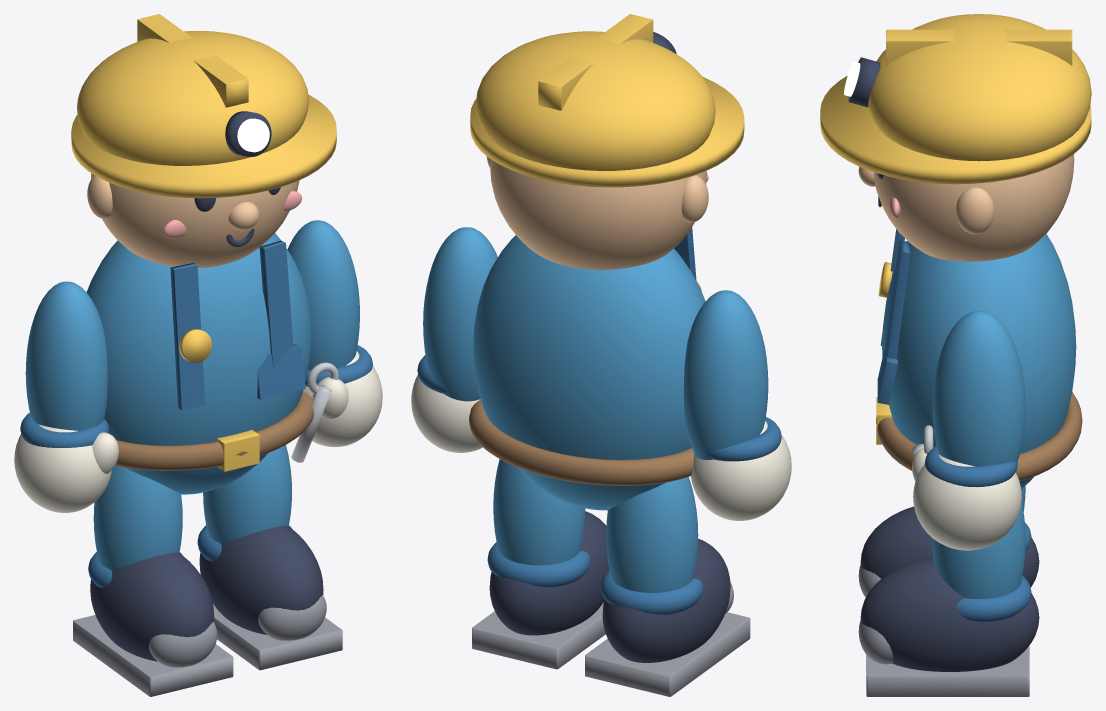
Rendered from pip.glb.
3 views of the same model, side by side, from view 1: azimuth 30°, elevation 25°; view 2: azimuth 150°, elevation 25°; view 3: azimuth 270°, elevation 25° (orthographic). The views are drawn at different scales.
Parts seen in each view (by area): view 1: Torso, Helmet, ArmL, HelmetBrim, Head, BootL, BootR, ArmR, LegL, LegR, GloveL, BootLSole (+20 smaller); view 2: Torso, Helmet, Head, ArmL, LegL, ArmR, BootL, HelmetBrim, LegR, BootR, TorsoBelt, GloveL (+8 smaller); view 3: Helmet, Torso, ArmR, BootR, Head, HelmetBrim, GloveR, BootRSole, LegR, BootL, TorsoBelt, HelmetRidge (+7 smaller).
Boxes of the visible parts, x1,y1,x2,y2 form: Torso: (86, 233, 311, 494); Helmet: (77, 31, 308, 165); ArmL: (25, 281, 107, 430); HelmetBrim: (71, 94, 336, 198); Head: (91, 173, 299, 267); BootL: (90, 552, 214, 661); BootR: (199, 526, 323, 634); ArmR: (287, 220, 359, 370); LegL: (93, 465, 182, 569); LegR: (203, 445, 291, 543); GloveL: (14, 424, 111, 512); BootLSole: (73, 615, 233, 696); Torso: (473, 235, 705, 510); Helmet: (476, 31, 715, 170); Head: (490, 159, 706, 269); ArmL: (683, 290, 768, 459); LegL: (606, 477, 698, 592); ArmR: (423, 227, 497, 401); BootL: (602, 538, 730, 662); HelmetBrim: (470, 77, 744, 187); LegR: (493, 459, 585, 565); BootR: (489, 511, 609, 635); TorsoBelt: (469, 399, 693, 485); GloveL: (690, 421, 791, 520); Helmet: (868, 14, 1091, 161); Torso: (882, 234, 1076, 488); ArmR: (932, 311, 1025, 466); BootR: (860, 558, 1039, 671); Head: (874, 154, 1074, 261); HelmetBrim: (820, 75, 1091, 184); GloveR: (913, 454, 1021, 550); BootRSole: (866, 645, 1029, 696); LegR: (932, 502, 1025, 598); BootL: (860, 506, 1039, 587); TorsoBelt: (876, 392, 1082, 480); HelmetRidge: (886, 29, 1072, 65).
Bounding box in the file's own units: 1.1 × 1.75 × 0.6992.
